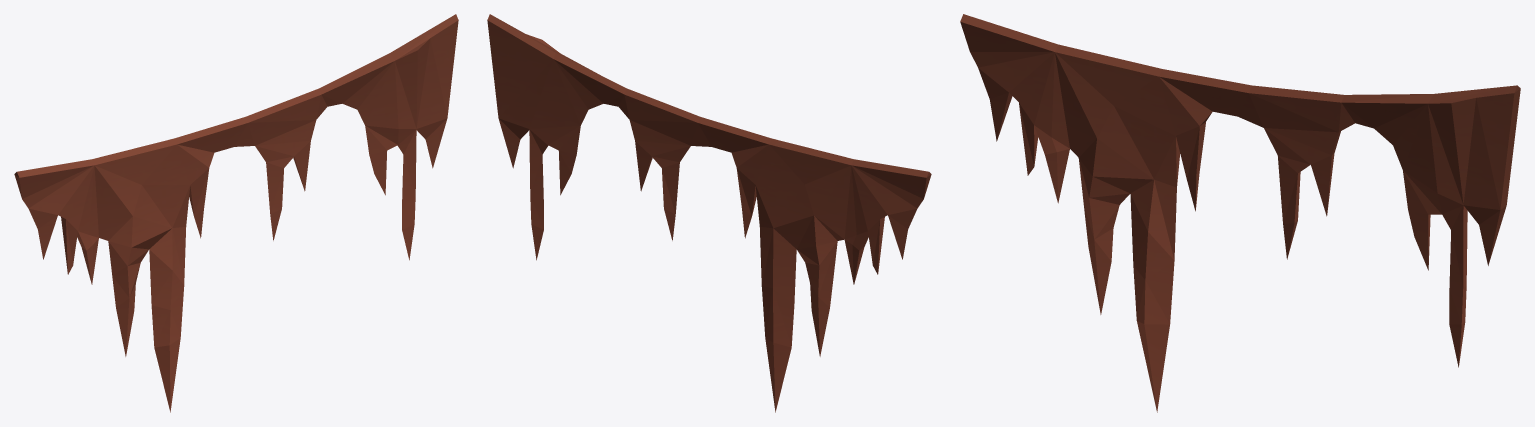
Rendered from ZLP_Rag_A_7.FBX.
The picture shows the model from 3 angles, left to right: view 1: azimuth 30°, elevation 25°; view 2: azimuth 150°, elevation 25°; view 3: azimuth 330°, elevation 25°; orthographic projection. The views are drawn at different scales.
Parts seen in each view (by area): view 1: ZLP_Rag_A_7; view 2: ZLP_Rag_A_7; view 3: ZLP_Rag_A_7.
Boxes of the visible parts, <box> form: ZLP_Rag_A_7: <box>14,14,458,412</box>; ZLP_Rag_A_7: <box>487,14,931,412</box>; ZLP_Rag_A_7: <box>960,14,1520,412</box>.
Bounding box in the file's own units: 510 × 366 × 23.58.
